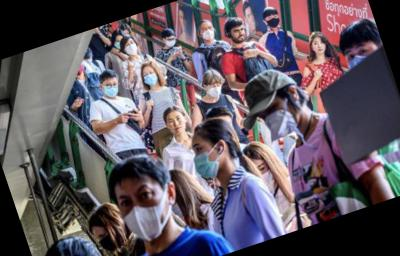with_mask: (112, 176, 180, 248), (253, 93, 305, 145), (187, 132, 229, 182), (91, 221, 127, 256), (100, 77, 123, 100), (205, 79, 225, 100), (142, 66, 161, 88), (198, 23, 217, 43), (122, 38, 141, 57), (264, 12, 282, 30), (163, 34, 178, 48)
without_mask: (165, 113, 189, 137), (229, 25, 249, 45), (310, 37, 329, 56)
